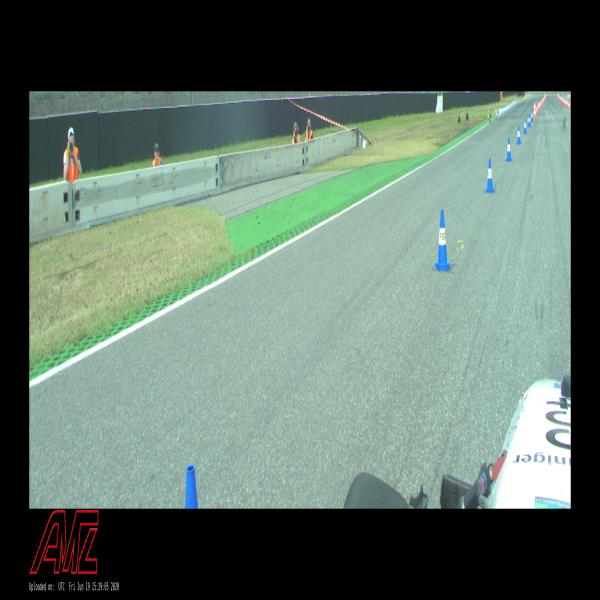blue_cone: (434, 210, 451, 270), (185, 464, 199, 508), (486, 158, 494, 192), (506, 138, 512, 161), (517, 126, 521, 144), (523, 119, 527, 134), (528, 115, 530, 126), (531, 112, 533, 121)
large_orange_cone: (533, 102, 537, 118)
orange_cone: (568, 102, 570, 110), (536, 106, 538, 114)
yellow_cone: (488, 109, 490, 118)
